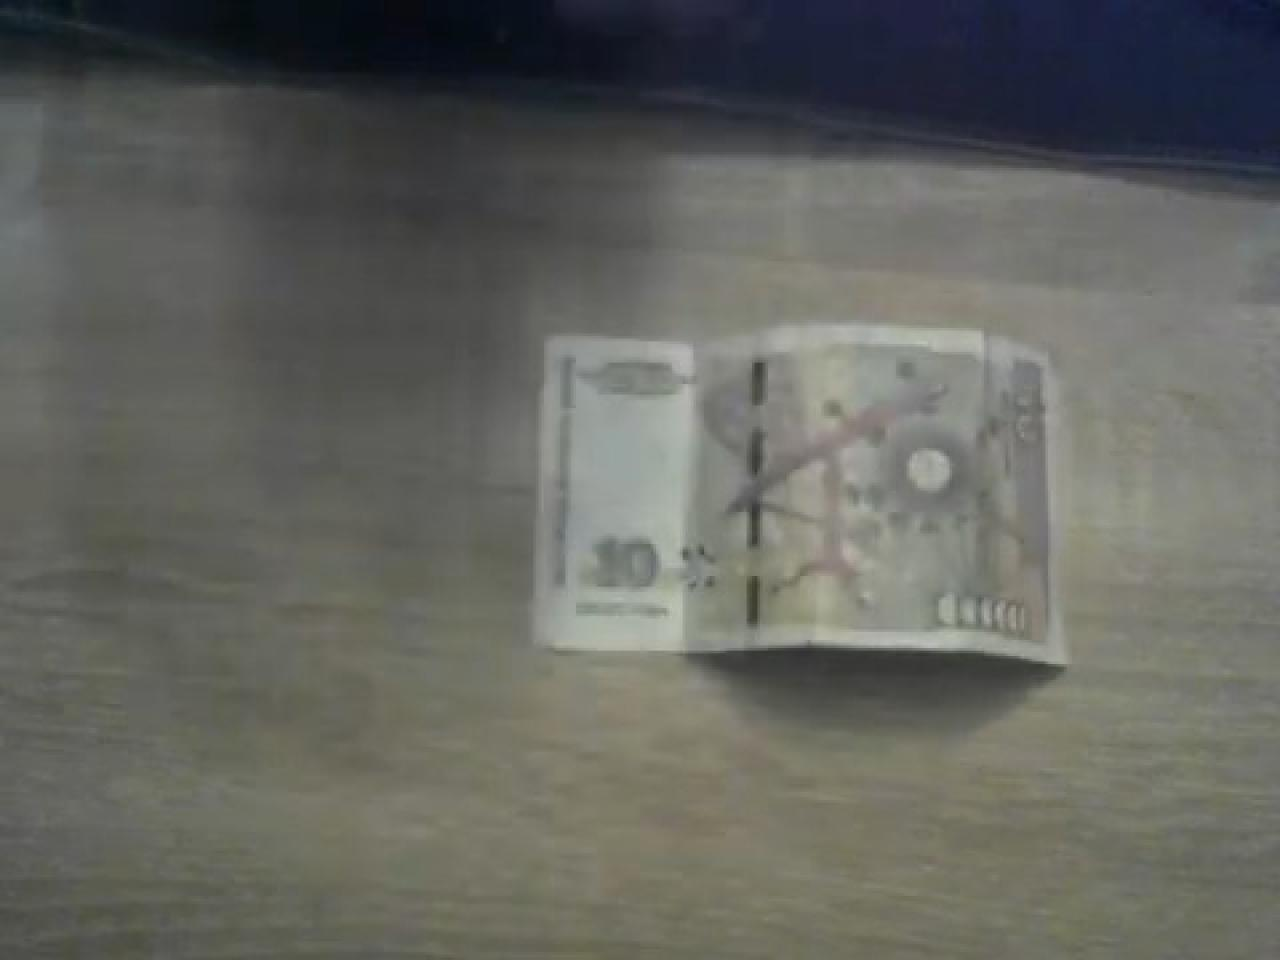10leva: (538, 326, 1064, 675)
